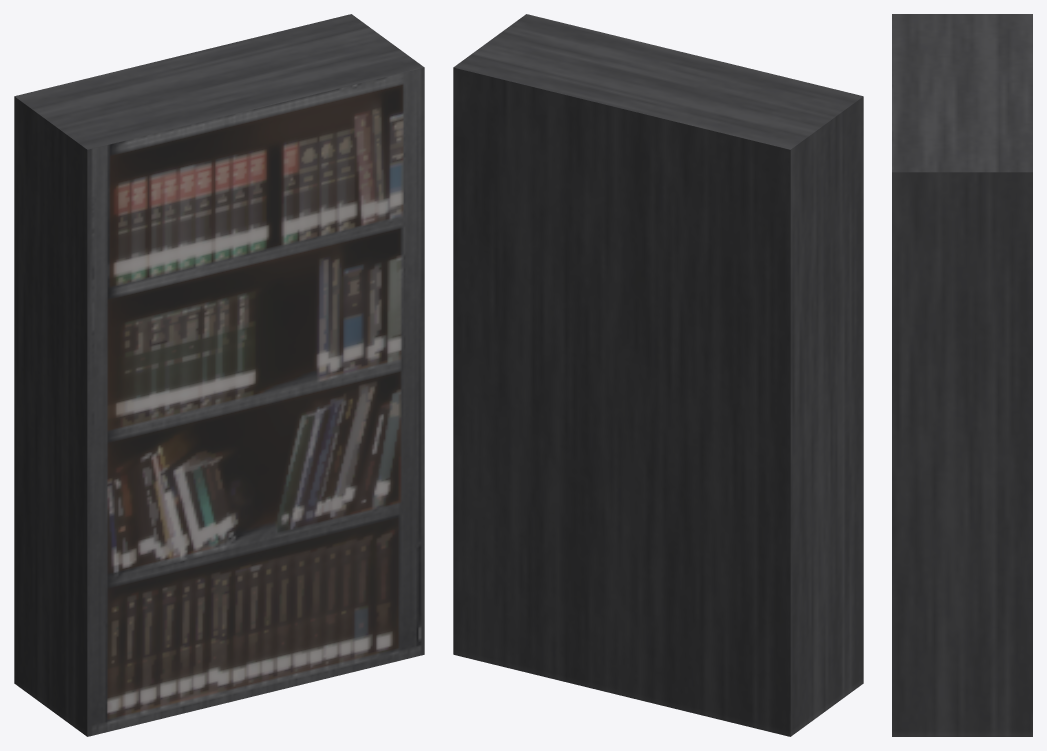
Rendered from Bookshelf.fbx.
3 renders of one model, left to right at view 1: azimuth 30°, elevation 25°; view 2: azimuth 150°, elevation 25°; view 3: azimuth 270°, elevation 25°, orthographic. The views are drawn at different scales.
Parts seen in each view (by area): view 1: Bookshelf.001; view 2: Bookshelf.001; view 3: Bookshelf.001.
Boxes of the visible parts, x1,y1,x2,y2 form: Bookshelf.001: [14, 14, 424, 736]; Bookshelf.001: [453, 14, 863, 736]; Bookshelf.001: [892, 14, 1032, 736].
Bounding box in the file's own units: 436 × 725 × 164.
